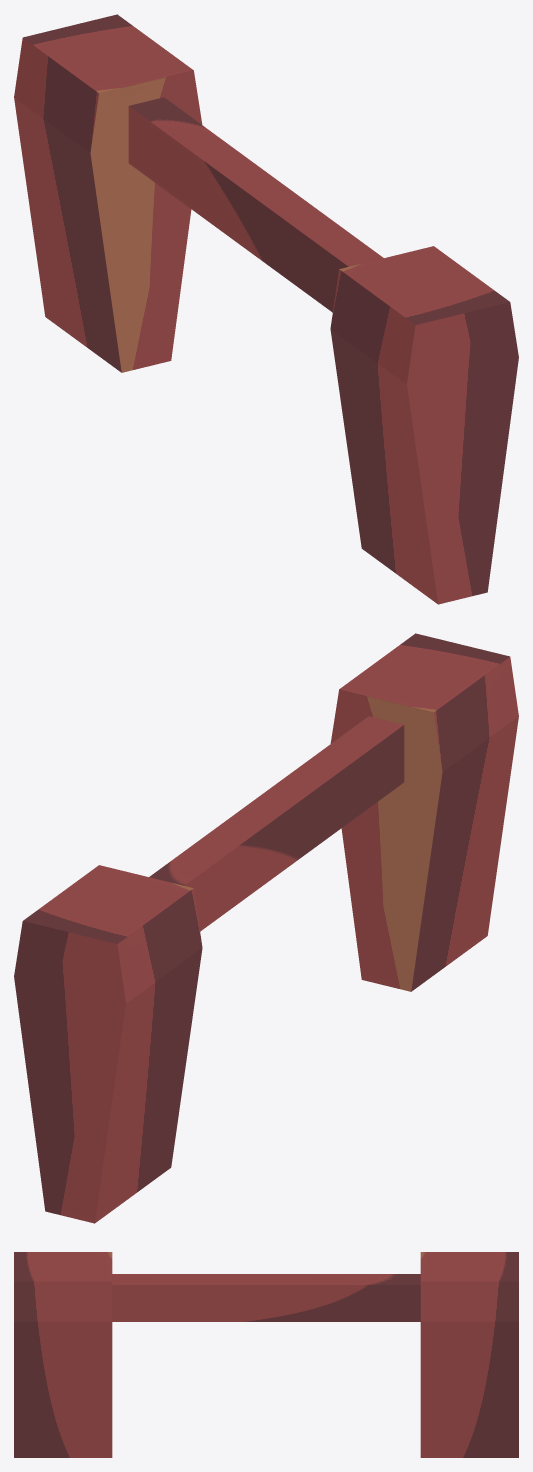
Rendered from Fence post-asset.glb.
3 renders of one model, top to bottom at view 1: azimuth 30°, elevation 25°; view 2: azimuth 150°, elevation 25°; view 3: azimuth 270°, elevation 25°, orthographic. The views are drawn at different scales.
Parts seen in each view (by area): view 1: Cube.001; view 2: Cube.001; view 3: Cube.001.
Part boxes in pixels (x1=…): Cube.001: x1=14, y1=14, x2=518, y2=604; Cube.001: x1=14, y1=633, x2=518, y2=1223; Cube.001: x1=14, y1=1252, x2=518, y2=1457.
Size of the model in its own units: 0.6821 by 1.66 by 4.14.
1 material, 1 textured.
